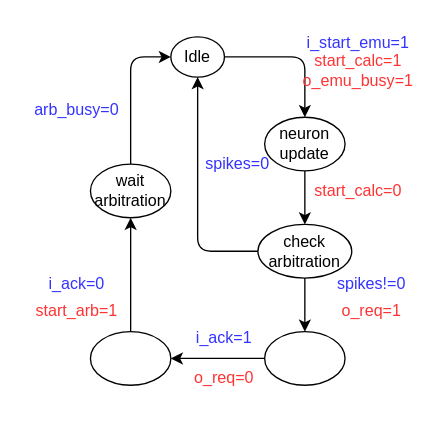
Some shapes in this 448 by 421 pixel diagram are drawn without their labels. Here are the shapes that lost their labels. From the top down, the centre of each, then its label:
At pixel 130 357: "accept".
At pixel 304 357: "request".
